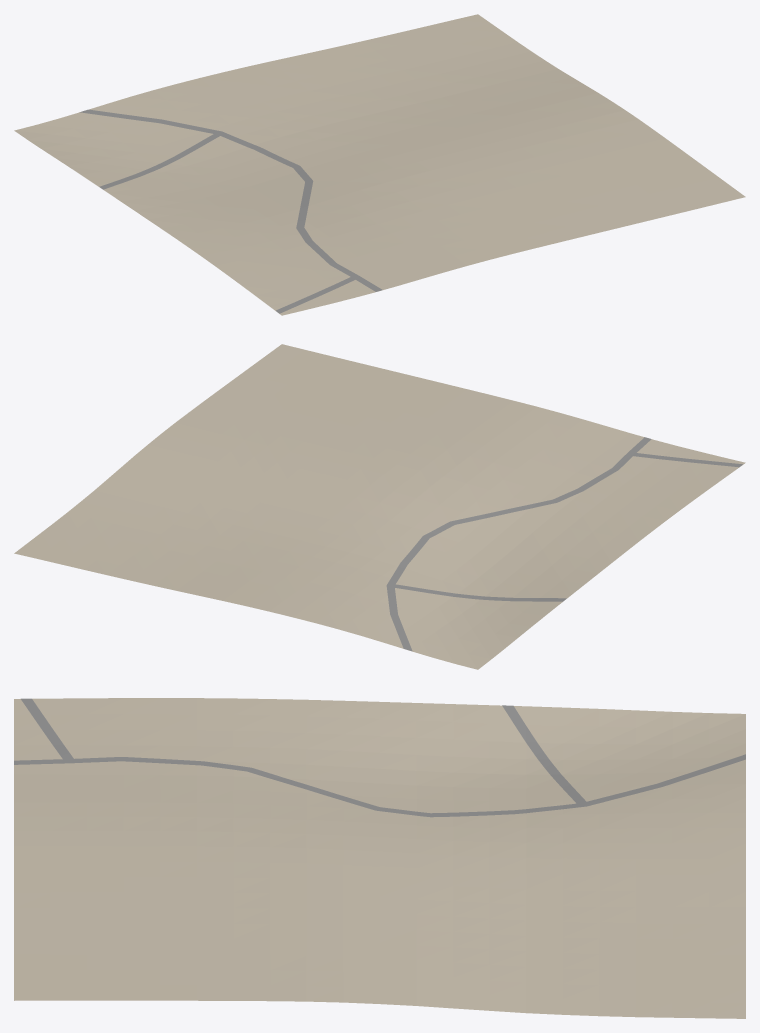
Rendered from bolak_-26_3.glb.
The picture shows the model from 3 angles, top to bottom: view 1: azimuth 30°, elevation 25°; view 2: azimuth 150°, elevation 25°; view 3: azimuth 270°, elevation 25°; orthographic projection. The views are drawn at different scales.
Parts seen in each view (by area): view 1: Yer_Tuproq-col, Yol_Mahalla-col; view 2: Yer_Tuproq-col, Yol_Mahalla-col; view 3: Yer_Tuproq-col, Yol_Mahalla-col.
Part boxes in pixels (x1,y1,x2,y2): Yer_Tuproq-col: [14, 14, 745, 315]; Yol_Mahalla-col: [80, 109, 382, 313]; Yer_Tuproq-col: [14, 344, 745, 669]; Yol_Mahalla-col: [386, 437, 742, 651]; Yer_Tuproq-col: [14, 698, 745, 1018]; Yol_Mahalla-col: [14, 698, 745, 817].
Size of what is drawn, in the model's own units: 400 by 13.67 by 400.
